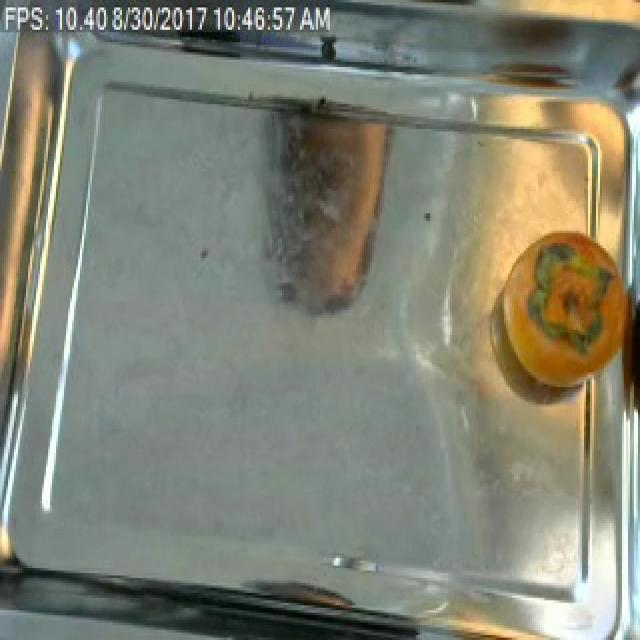Fruit: (422, 116, 622, 402), (412, 600, 600, 640), (466, 0, 640, 40)
